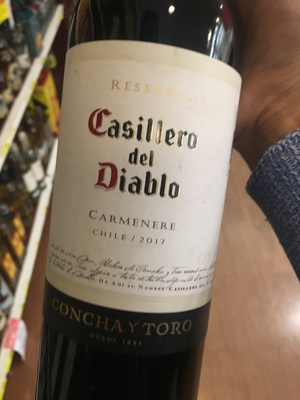casillero del diablo carmenere: (48, 12, 234, 400)
